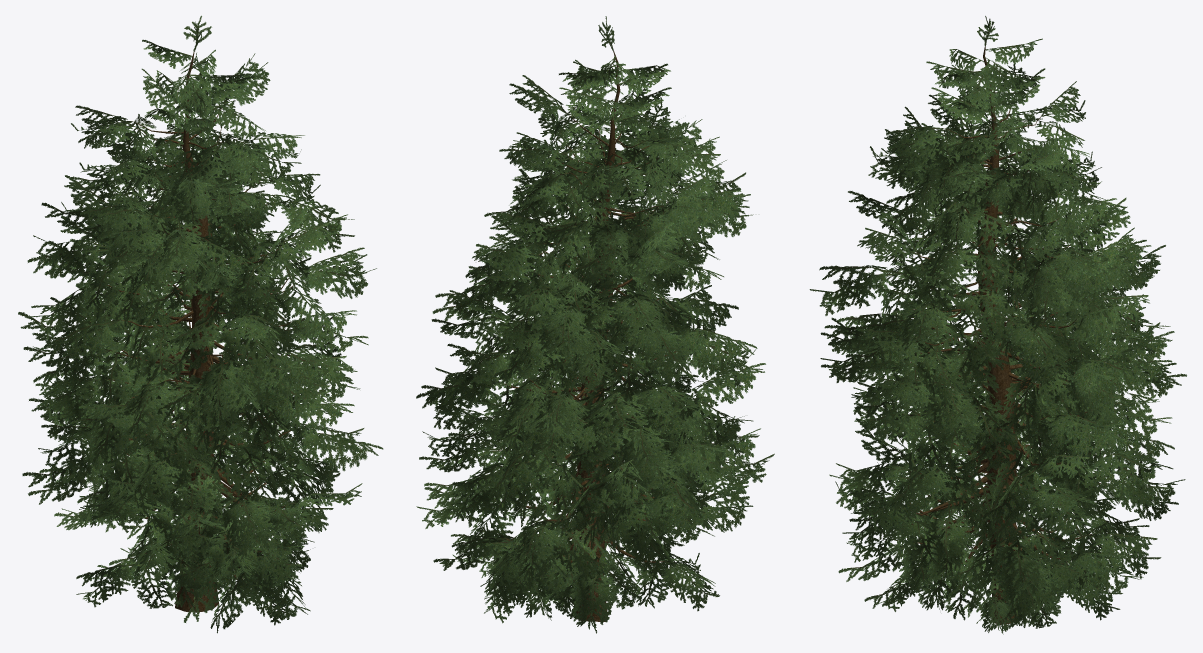
File: fir3_l0.glb
3 renders of one model, left to right at view 1: azimuth 30°, elevation 25°; view 2: azimuth 150°, elevation 25°; view 3: azimuth 270°, elevation 25°, orthographic.
Parts seen in each view (by area): view 1: Christmas tree_3_LOD0_Brunches_Mat_0, Christmas tree_3_LOD0_Bark_Mat_0; view 2: Christmas tree_3_LOD0_Brunches_Mat_0, Christmas tree_3_LOD0_Bark_Mat_0; view 3: Christmas tree_3_LOD0_Brunches_Mat_0, Christmas tree_3_LOD0_Bark_Mat_0.
Part boxes in pixels (x1=…): Christmas tree_3_LOD0_Brunches_Mat_0: x1=18, y1=15, x2=383, y2=633; Christmas tree_3_LOD0_Bark_Mat_0: x1=107, y1=51, x2=295, y2=612; Christmas tree_3_LOD0_Brunches_Mat_0: x1=416, y1=16, x2=774, y2=633; Christmas tree_3_LOD0_Bark_Mat_0: x1=495, y1=51, x2=690, y2=621; Christmas tree_3_LOD0_Brunches_Mat_0: x1=809, y1=16, x2=1186, y2=634; Christmas tree_3_LOD0_Bark_Mat_0: x1=898, y1=46, x2=1101, y2=625.
Size of the model in its own units: 10.18 by 18 by 10.41.
Materials: 2 (2 with a texture image).
